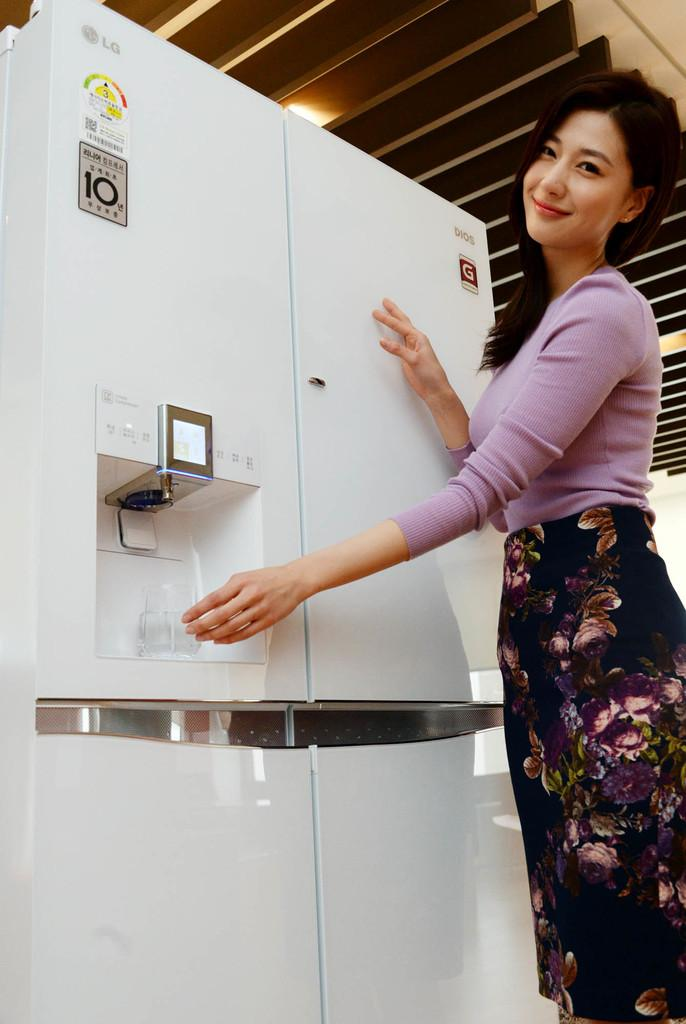handle: (32, 690, 288, 766), (294, 684, 492, 775)
